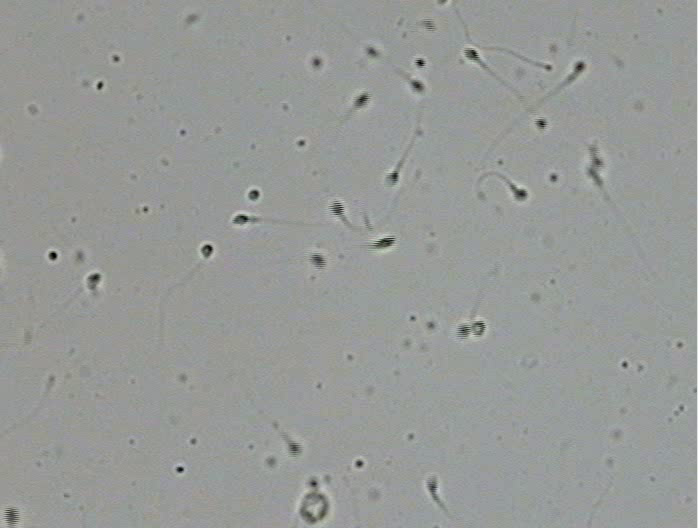Impurity: (299, 477, 329, 524)
S: (3, 506, 20, 527), (509, 183, 528, 201), (371, 236, 396, 249), (308, 253, 327, 269), (589, 147, 603, 168), (328, 200, 345, 217), (353, 93, 369, 110), (587, 168, 602, 185), (425, 476, 438, 495), (471, 321, 486, 337), (87, 273, 101, 290), (287, 441, 302, 456), (457, 323, 471, 339), (464, 48, 480, 62), (232, 214, 252, 225), (385, 171, 399, 186), (409, 81, 425, 92), (535, 117, 548, 130), (201, 244, 213, 258), (424, 18, 436, 32), (574, 61, 586, 74), (415, 58, 425, 68), (367, 47, 378, 56), (249, 190, 259, 199), (313, 58, 321, 66), (438, 1, 448, 5)
